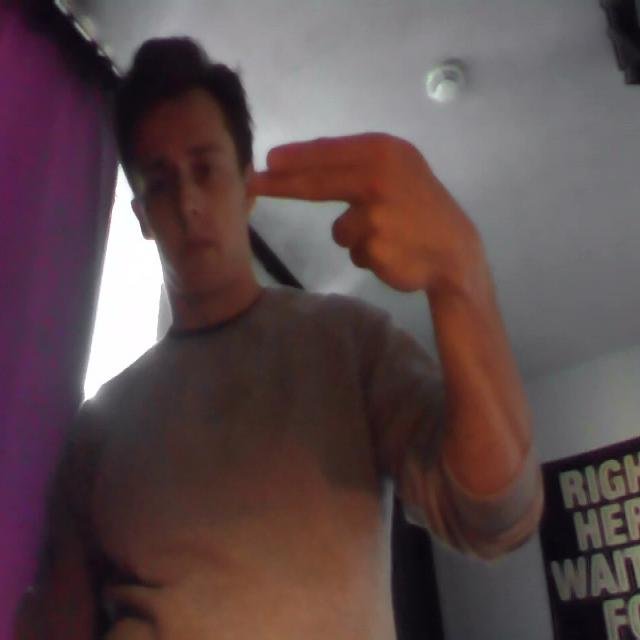left: (232, 70, 473, 310)
